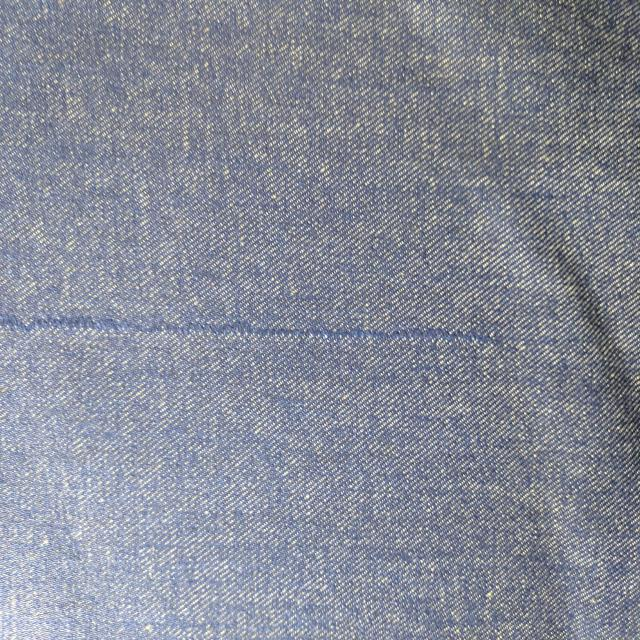Line: (0, 312, 518, 352)
